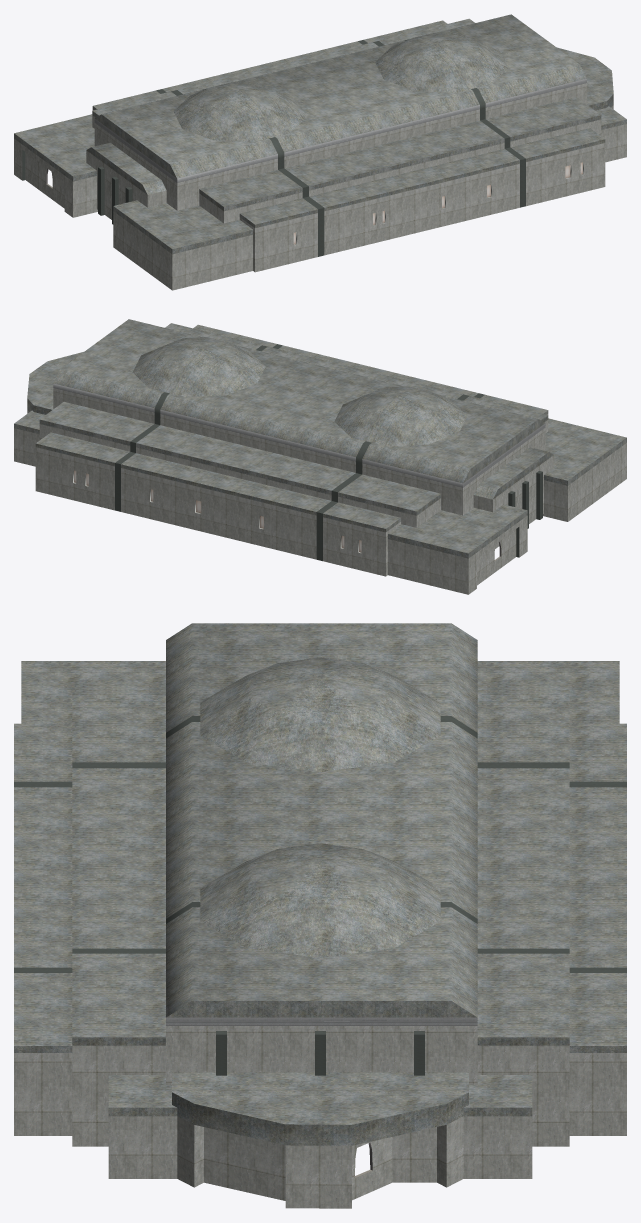
File: thm_corl_cantina_r0_mesh_l2.fbx
3 views of the same model, one above another, from view 1: azimuth 30°, elevation 25°; view 2: azimuth 150°, elevation 25°; view 3: azimuth 270°, elevation 25° (orthographic). The views are drawn at different scales.
Parts seen in each view (by area): view 1: mesh_node; view 2: mesh_node; view 3: mesh_node.
Boxes of the visible parts, left/top/right/bottom form: mesh_node: left=14, top=14, right=626, bottom=290; mesh_node: left=14, top=319, right=626, bottom=594; mesh_node: left=14, top=623, right=626, bottom=1208.
Size of the model in its own units: 101 by 19.97 by 55.66.
